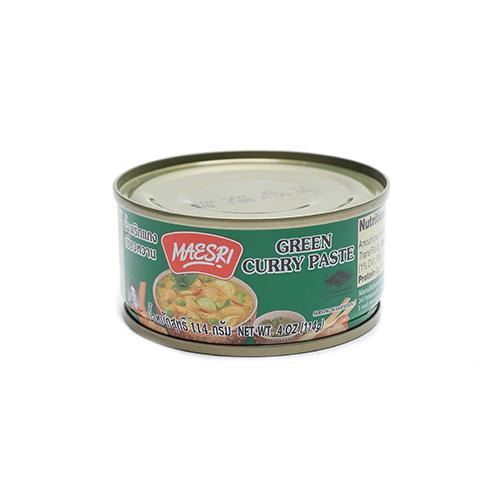metal: (113, 151, 390, 356)
